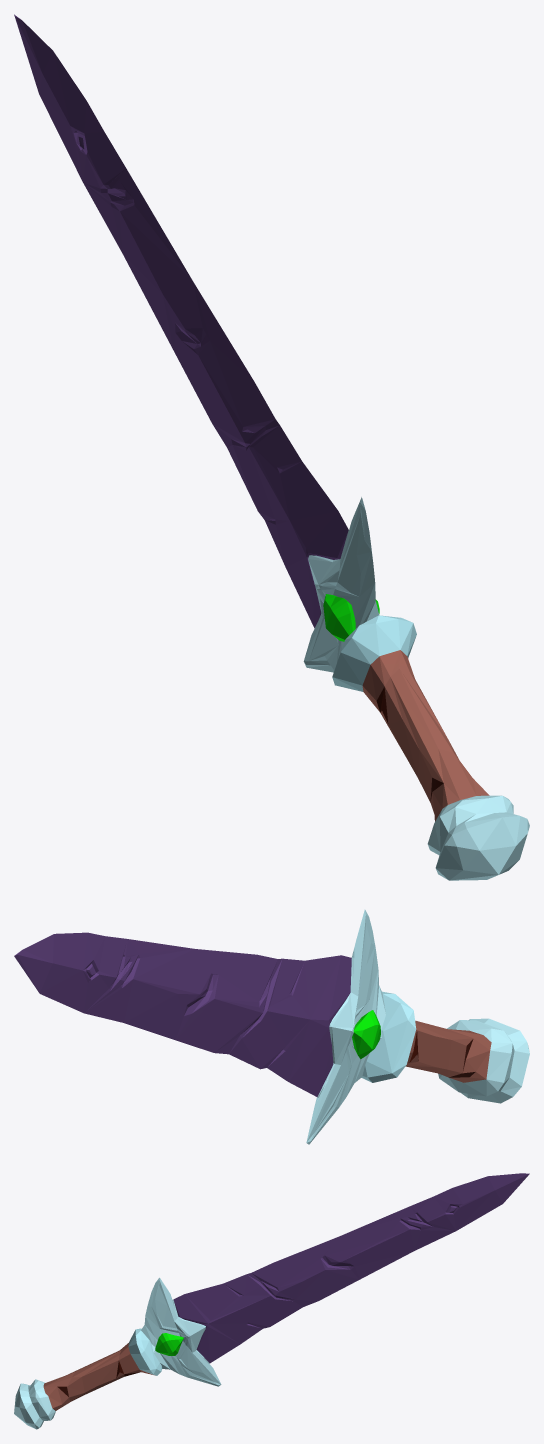
Rendered from Mage Sword.fbx.
3 views of the same model, one above another, from view 1: azimuth 30°, elevation 25°; view 2: azimuth 150°, elevation 25°; view 3: azimuth 270°, elevation 25° (orthographic). The views are drawn at different scales.
Visible parts, largest first — view 1: Mage_Sword; view 2: Mage_Sword; view 3: Mage_Sword.
Part boxes in pixels (<box>): Mage_Sword: <box>14,14,529,880</box>; Mage_Sword: <box>14,909,529,1144</box>; Mage_Sword: <box>14,1173,529,1429</box>.
Bounding box in the file's own units: 0.1823 × 1.88 × 1.03.
Materials: 1 (1 with a texture image).
